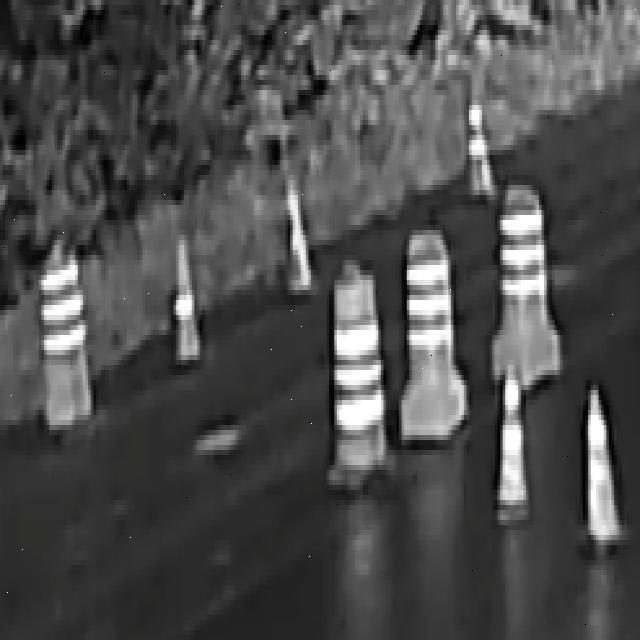big_cone: (329, 264, 387, 483), (402, 232, 454, 446), (498, 185, 550, 393), (41, 246, 92, 424)
small_cone: (578, 378, 620, 553), (493, 359, 531, 525), (277, 165, 314, 299), (169, 228, 200, 374), (461, 92, 500, 202)
